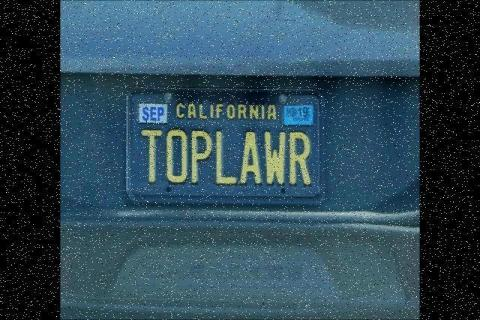LicensePlate: (126, 81, 324, 199)
